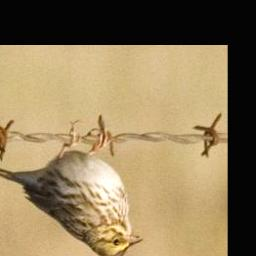Sparrow: (0, 121, 146, 256)
